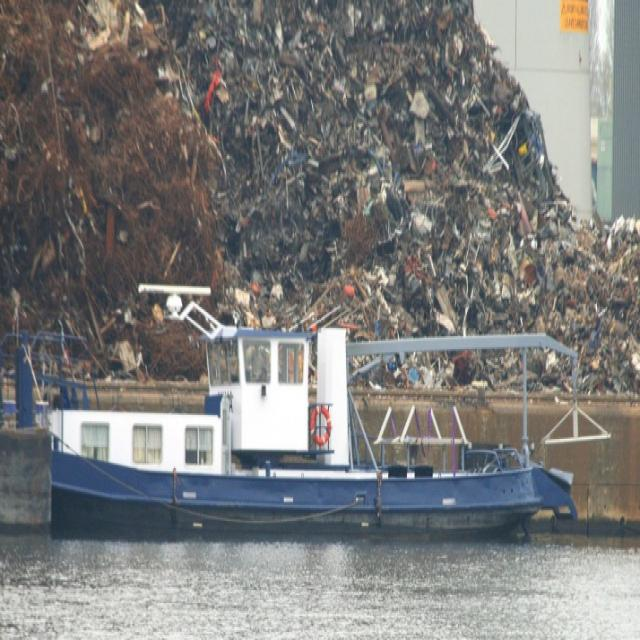tugboat: (1, 260, 584, 552)
